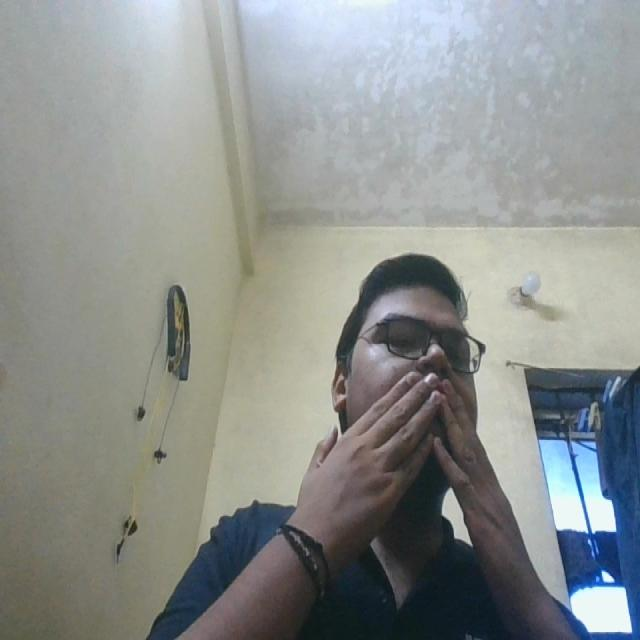Thanks: (281, 351, 545, 602)
